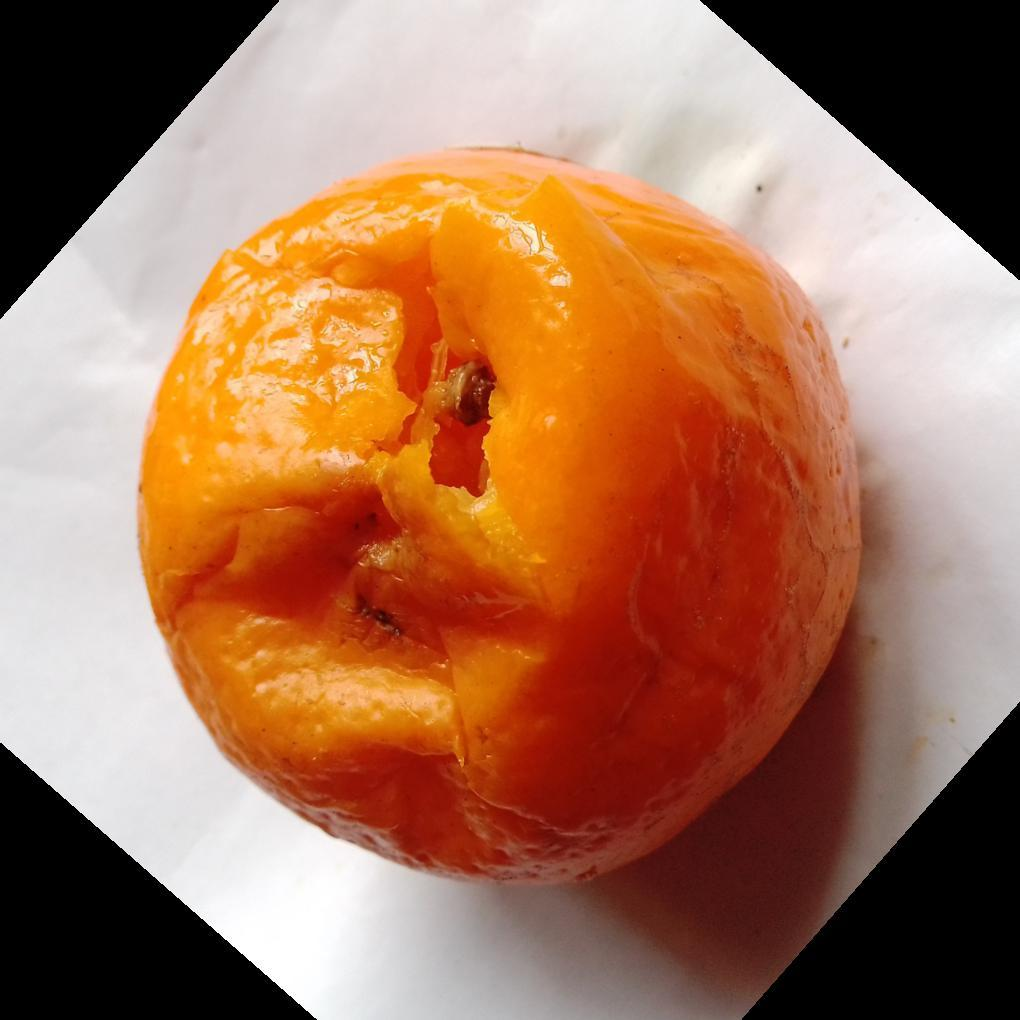FreshOrange: (134, 148, 865, 890)
